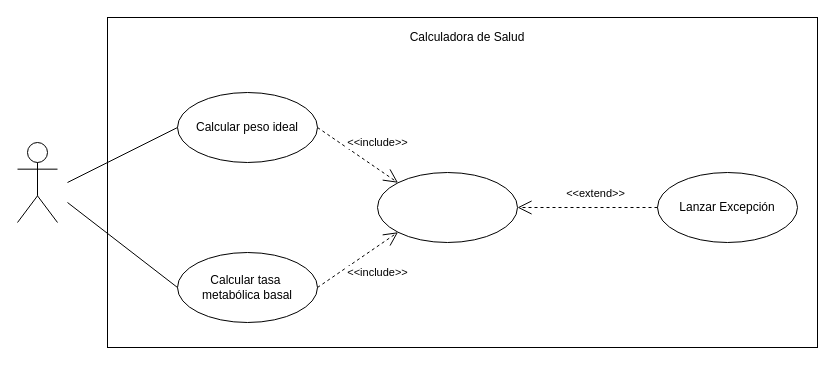
Some shapes in this 835 by 365 pixel diagram are drawn without their labels. The shapes that lost their labels are listed below. From the top down, each one's centre as x and y in pixels, then its label:
(37,182): Usuario
(447,207): Insertar Parámetros
